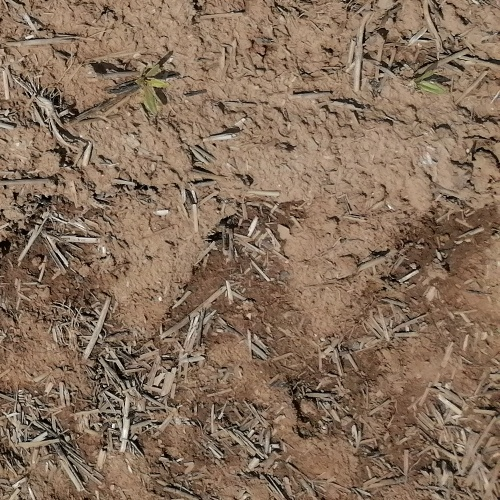beet: (134, 63, 169, 113), (409, 73, 448, 93)
